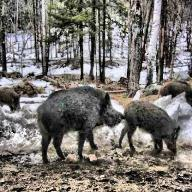boar: (35, 79, 121, 175), (130, 94, 184, 162), (153, 69, 192, 108), (0, 77, 28, 113)
